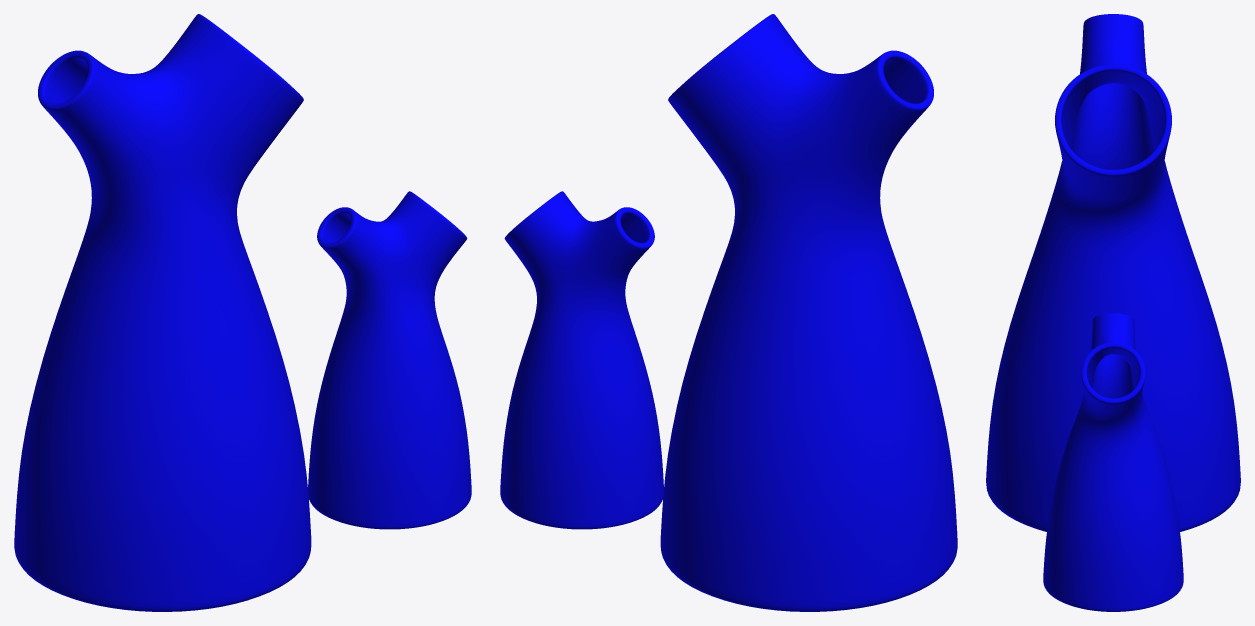
Rendered from Flow Jug_small.fbx.
3 renders of one model, left to right at view 1: azimuth 30°, elevation 25°; view 2: azimuth 150°, elevation 25°; view 3: azimuth 270°, elevation 25°, orthographic. The views are drawn at different scales.
Parts seen in each view (by area): view 1: Flow Jug_small; view 2: Flow Jug_small; view 3: Flow Jug_small.
Part boxes in pixels (x1,y1,x2,y2): Flow Jug_small: (14,14,471,611); Flow Jug_small: (500,14,957,611); Flow Jug_small: (986,14,1240,611).
Bounding box in the file's own units: 0.2124 × 0.2463 × 0.1282.
